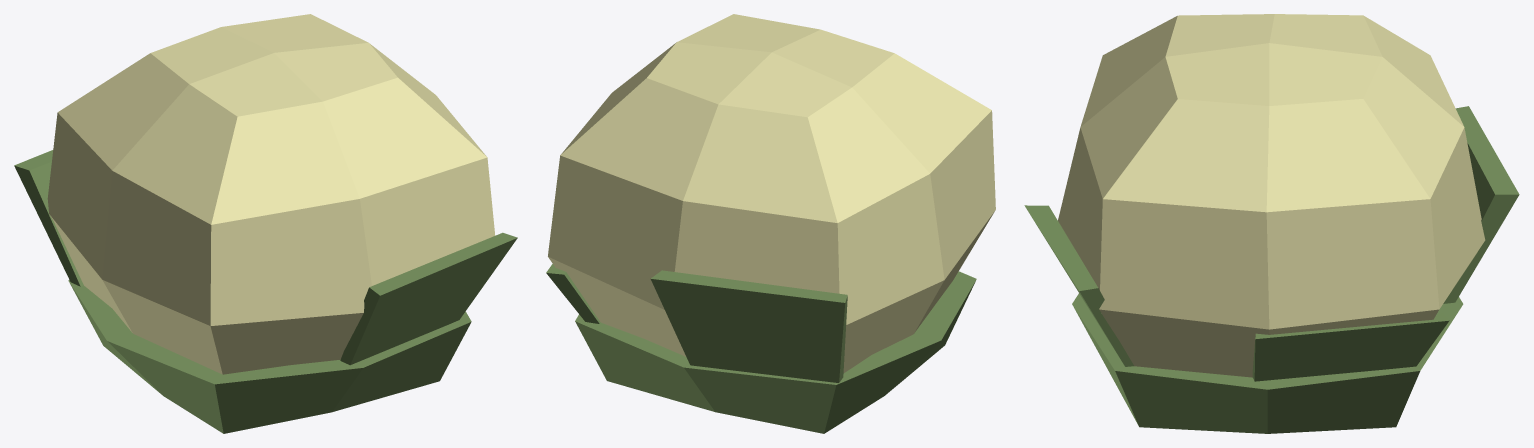
Rendered from cauliflowerWithLeafs.fbx.
3 views of the same model, side by side, from view 1: azimuth 30°, elevation 25°; view 2: azimuth 150°, elevation 25°; view 3: azimuth 270°, elevation 25° (orthographic). The views are drawn at different scales.
Parts seen in each view (by area): view 1: cauliflowerWithLeafs; view 2: cauliflowerWithLeafs; view 3: cauliflowerWithLeafs.
Boxes of the visible parts, x1,y1,x2,y2 form: cauliflowerWithLeafs: [14, 14, 517, 433]; cauliflowerWithLeafs: [546, 14, 995, 433]; cauliflowerWithLeafs: [1024, 14, 1519, 433].
Bounding box in the file's own units: 14.89 × 13.14 × 17.16.
Materials: 1 (1 with a texture image).
